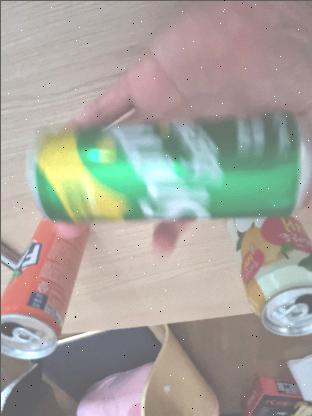Can: (34, 122, 296, 224)
